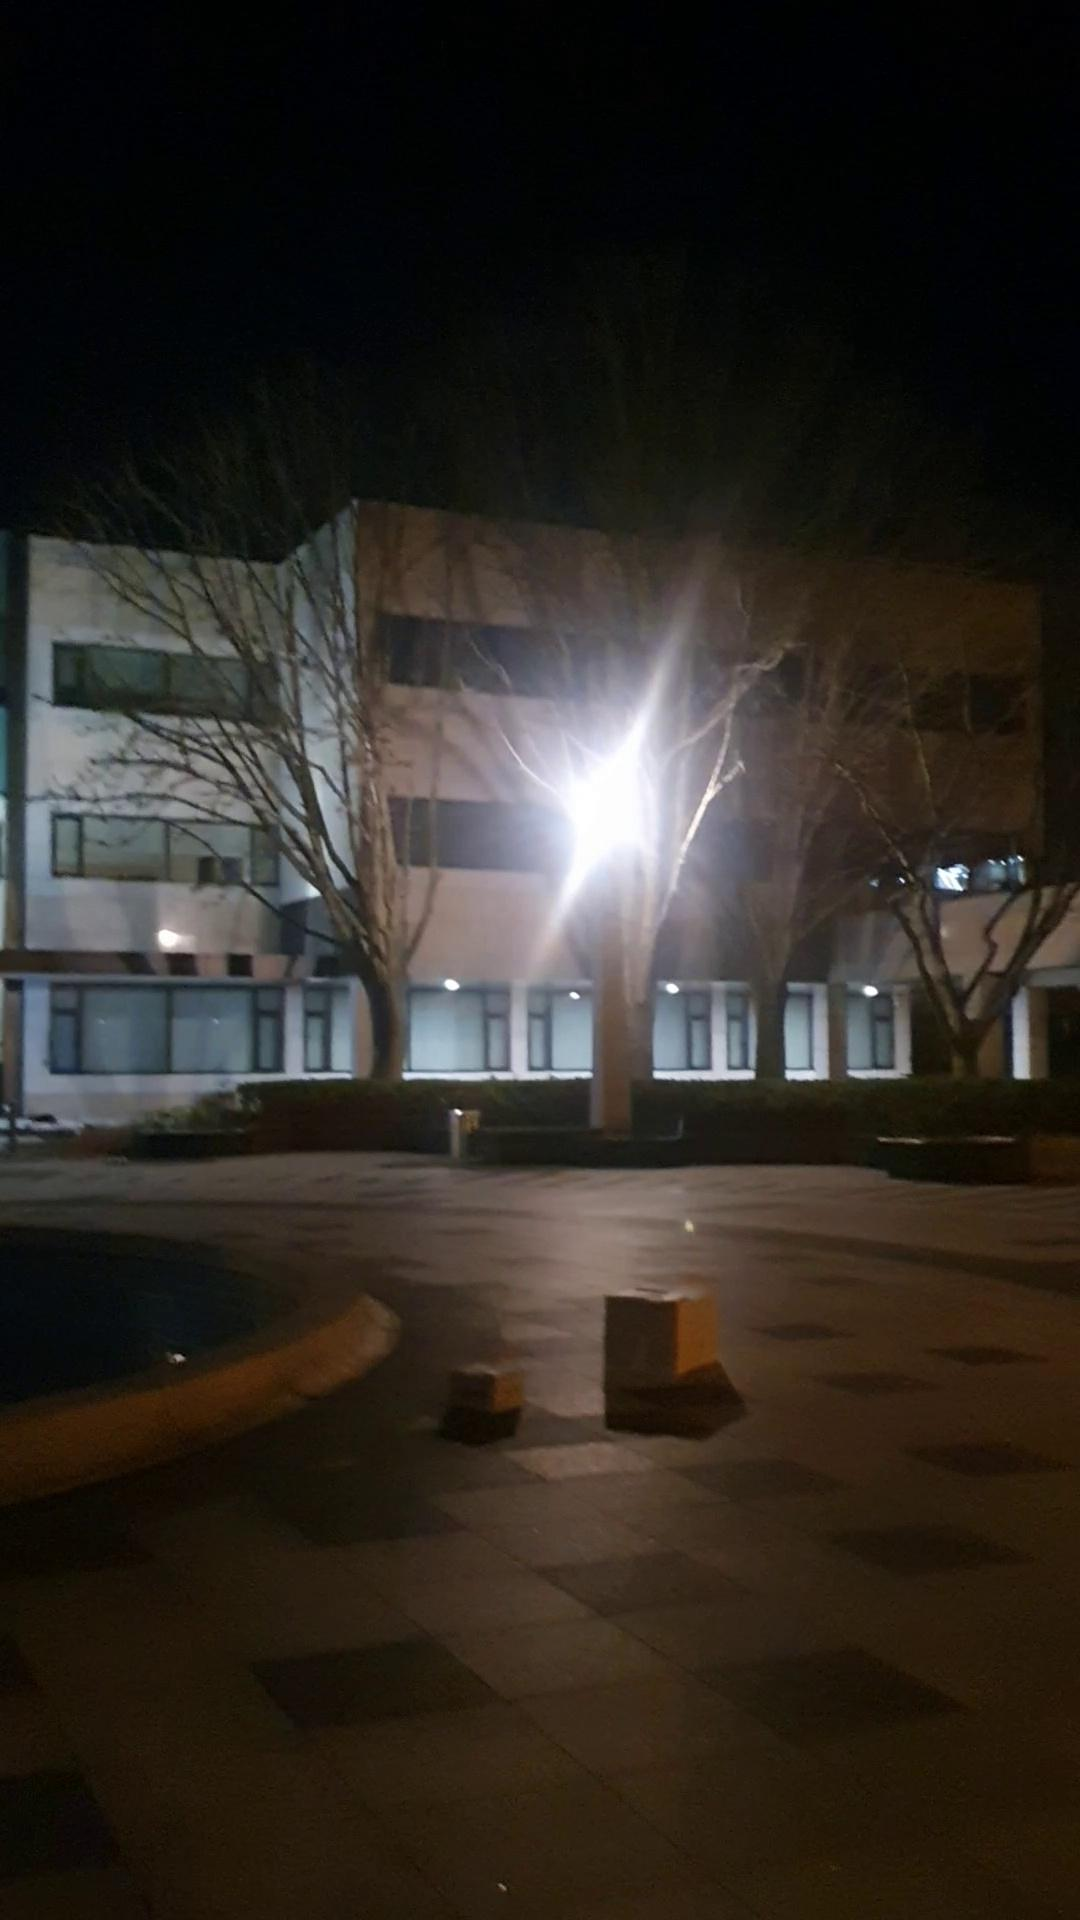Box: (578, 1273, 735, 1403), (443, 1350, 542, 1422)
